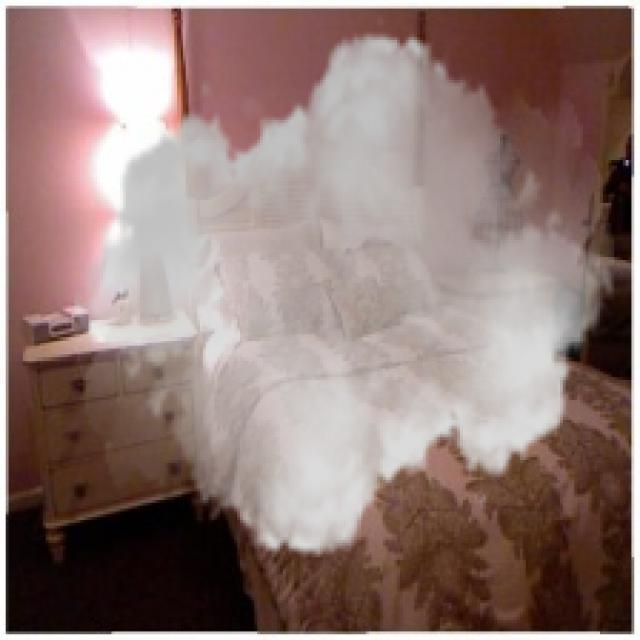Smoke: (71, 11, 614, 578)
